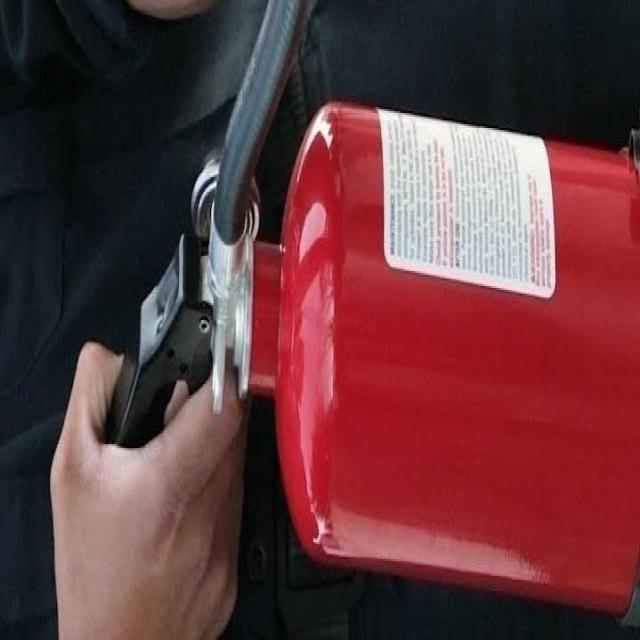fire_extinguisher: (91, 0, 639, 631)
